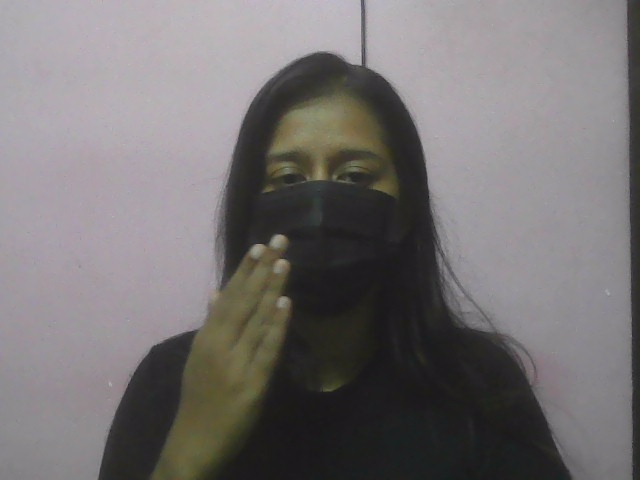Thank you: (164, 235, 309, 458)
